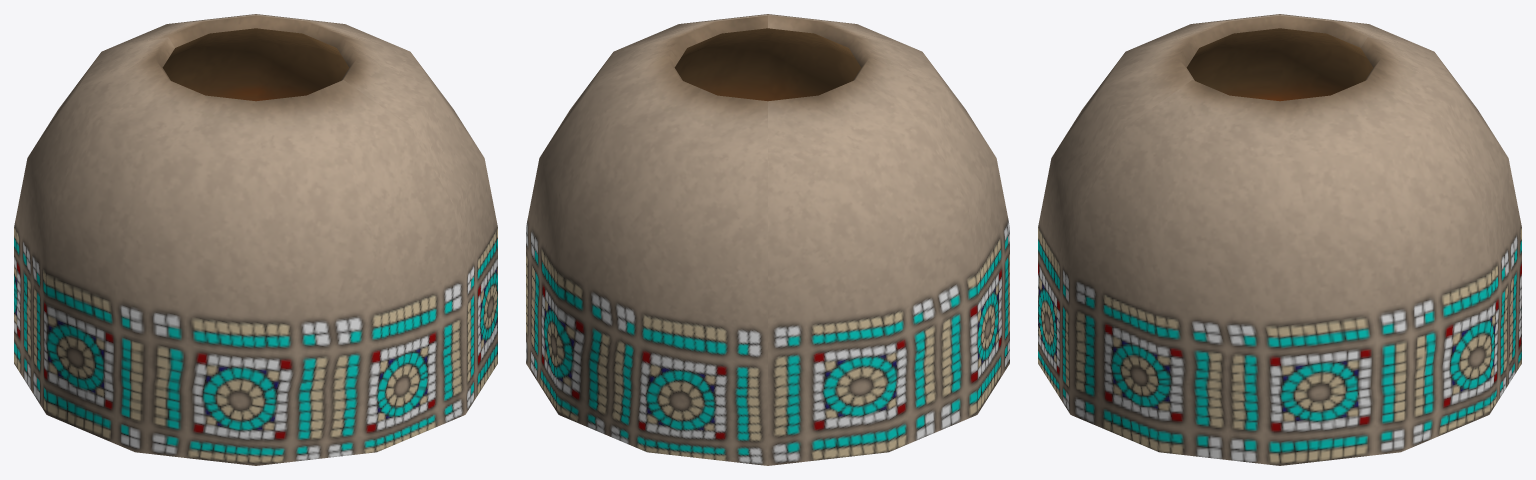
Rendered from street_restaurant_tandirsomsa.FBX.
The picture shows the model from 3 angles, left to right: view 1: azimuth 30°, elevation 25°; view 2: azimuth 150°, elevation 25°; view 3: azimuth 270°, elevation 25°; orthographic projection.
Visible parts, largest first — view 1: street_restaurant_tandirsomsa; view 2: street_restaurant_tandirsomsa; view 3: street_restaurant_tandirsomsa.
Part boxes in pixels (bbox=[...]): street_restaurant_tandirsomsa: bbox=[14, 14, 497, 465]; street_restaurant_tandirsomsa: bbox=[526, 14, 1009, 465]; street_restaurant_tandirsomsa: bbox=[1038, 14, 1521, 465].
Size of the model in its own units: 114 by 79.09 by 114.
